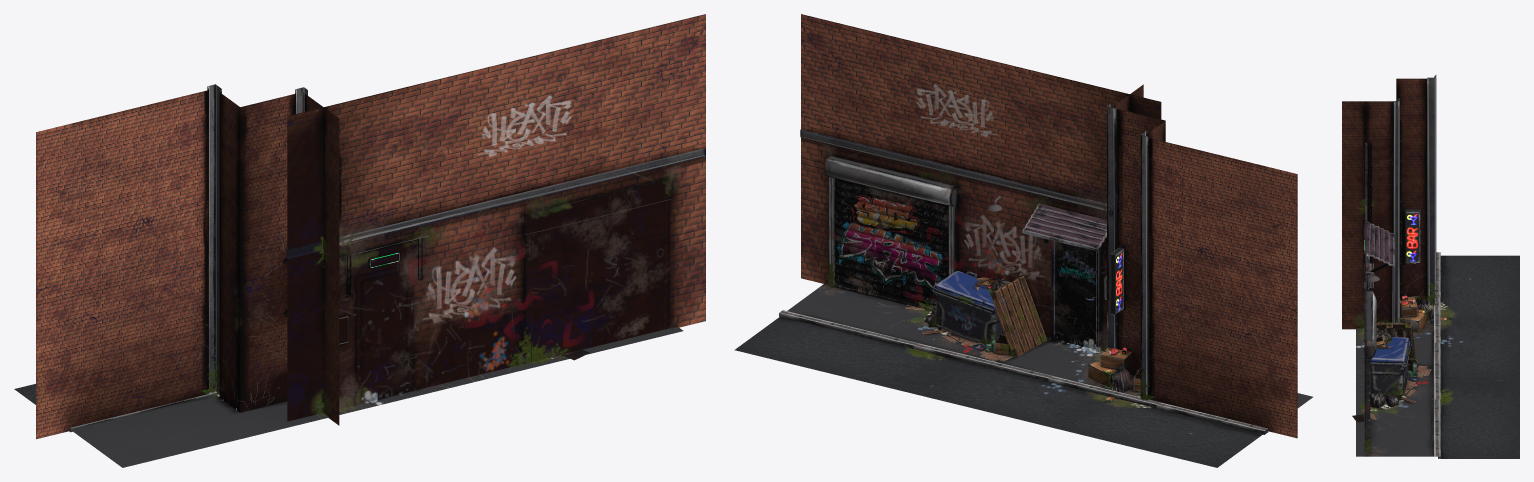
Rendered from dirty_street.glb.
The picture shows the model from 3 angles, left to right: view 1: azimuth 30°, elevation 25°; view 2: azimuth 150°, elevation 25°; view 3: azimuth 270°, elevation 25°; orthographic projection. The views are drawn at different scales.
Visible parts, largest first — view 1: Plane.008; view 2: Plane.008; view 3: Plane.008.
Boxes of the visible parts, <box> form: Plane.008: <box>14,14,705,467</box>; Plane.008: <box>734,14,1312,467</box>; Plane.008: <box>1342,75,1519,458</box>.
Bounding box in the file's own units: 8.26 × 3.96 × 2.75.
2 materials, 2 textured.
